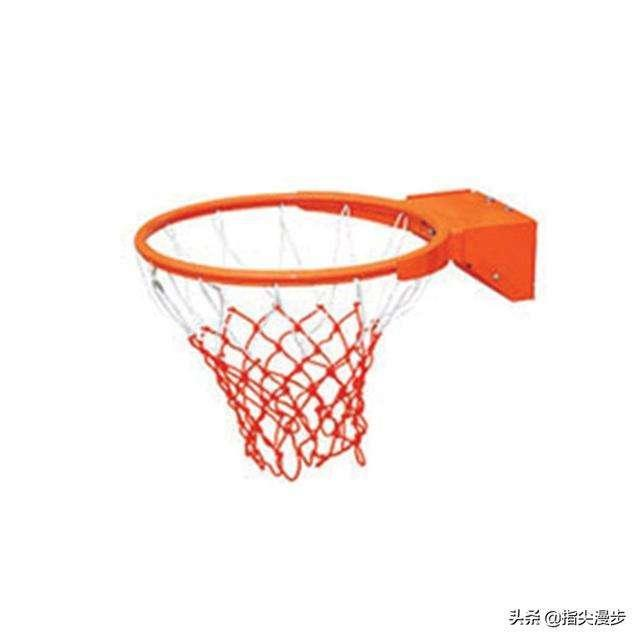rim: (136, 190, 446, 470)
